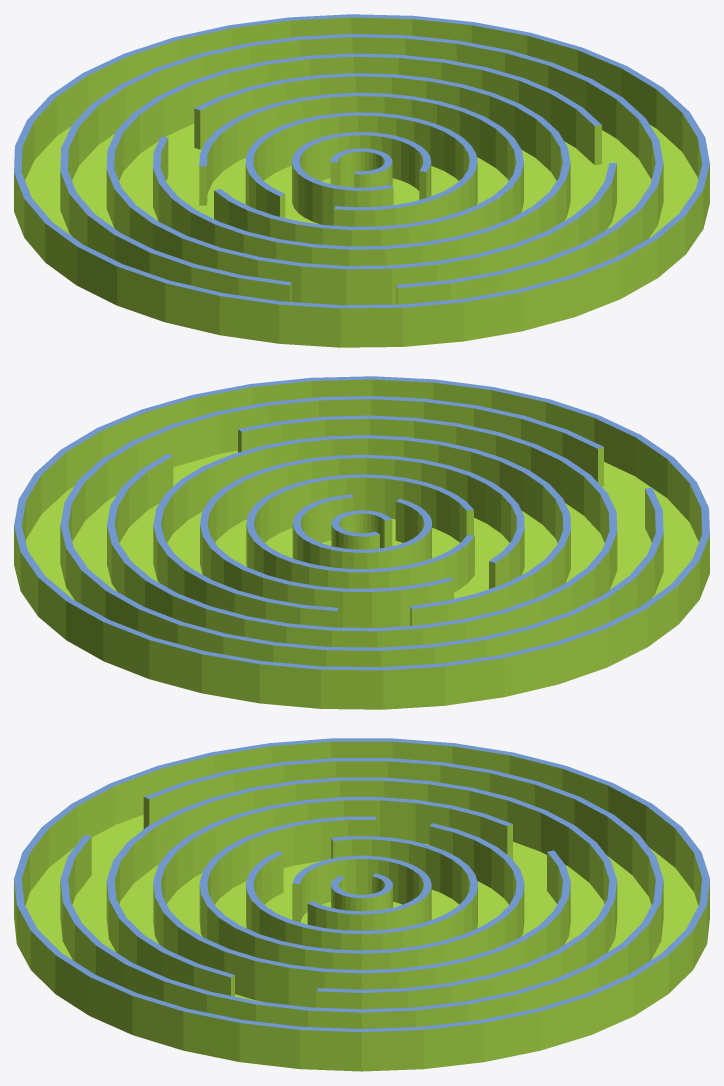
The model's file is maze level 5.fbx.
3 views of the same model, one above another, from view 1: azimuth 30°, elevation 25°; view 2: azimuth 150°, elevation 25°; view 3: azimuth 270°, elevation 25° (orthographic).
Visible parts, largest first — view 1: Vert; view 2: Vert; view 3: Vert.
Boxes of the visible parts, <box> form: Vert: <box>14,14,709,347</box>; Vert: <box>14,376,709,709</box>; Vert: <box>14,738,709,1071</box>.
Bounding box in the file's own units: 675 × 42 × 675.
